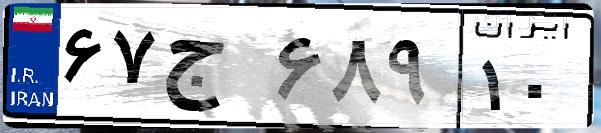0: (525, 38, 570, 115)
1: (475, 38, 525, 113)
6: (270, 28, 330, 110), (57, 26, 110, 100)
7: (110, 28, 158, 98)
8: (330, 28, 385, 110)
9: (385, 28, 445, 110)
ج: (158, 20, 270, 120)
